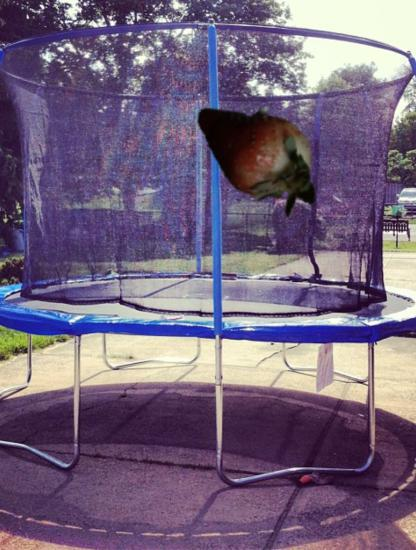Strawberry: (192, 93, 322, 223)
